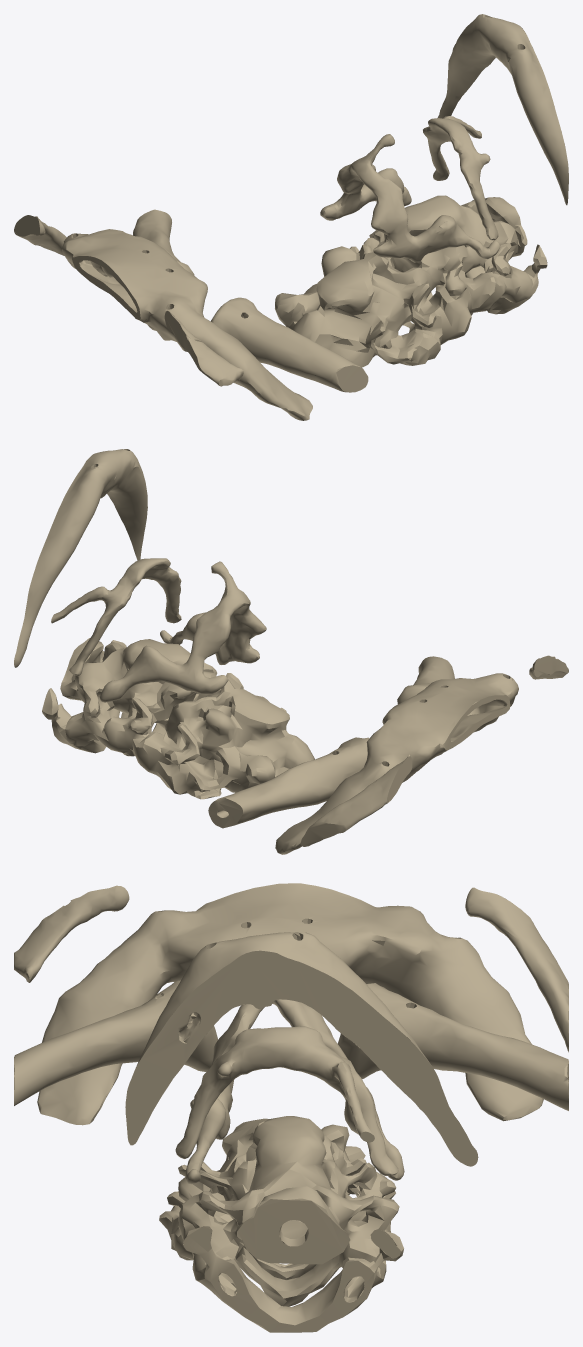
The model's file is BONES.fbx.
3 views of the same model, one above another, from view 1: azimuth 30°, elevation 25°; view 2: azimuth 150°, elevation 25°; view 3: azimuth 270°, elevation 25° (orthographic). The views are drawn at different scales.
Parts seen in each view (by area): view 1: BONES; view 2: BONES; view 3: BONES.
Part boxes in pixels (bbox=[...]): BONES: bbox=[14, 14, 568, 420]; BONES: bbox=[14, 449, 568, 854]; BONES: bbox=[14, 883, 568, 1332].
Size of the model in its own units: 16.79 by 11.47 by 14.82.
